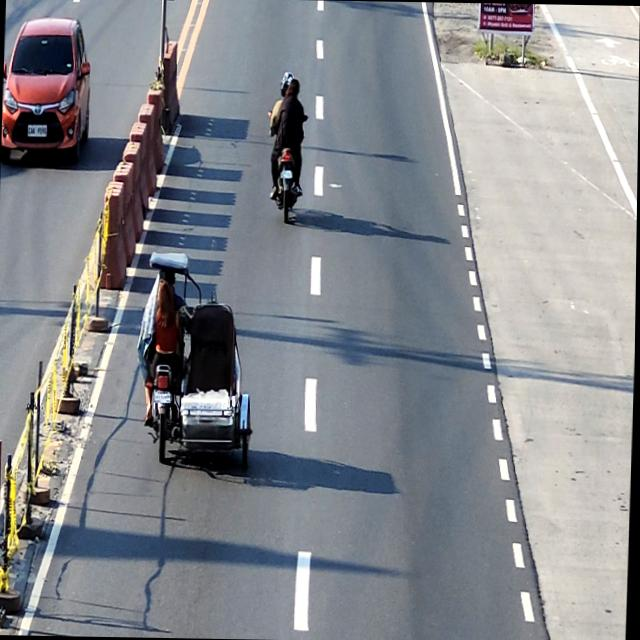Car: (1, 15, 93, 168)
License-Plate: (27, 124, 48, 137), (154, 390, 172, 404), (280, 170, 293, 180)
Motorcycle: (264, 108, 309, 224)
Tricycle: (142, 250, 259, 470)
